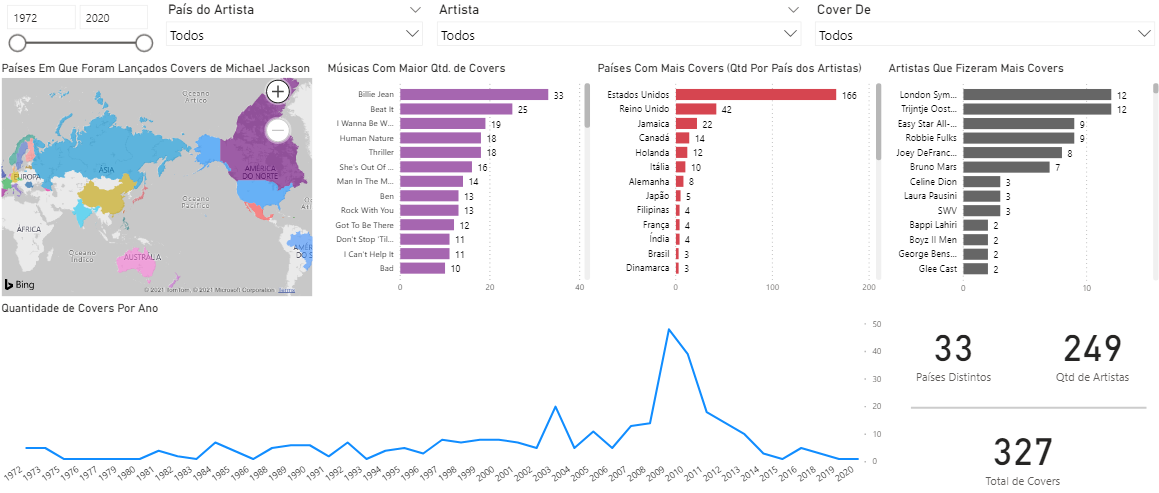

The page's visual inventory and layout, read from the dashboard file:
{"tool":"powerbi","page":{"name":"Covers de Michael Jackson","canvas":[1680,720],"ordinal":2},"visuals":[{"type":"filledMap","title":"Países Em Que Foram Lançados Covers de Michael Jackson","fields":{"Category":["fCovers.País do Artista"],"Series":["fCovers.País do Artista"]},"box":[0,90.9,459,344.9],"z":0},{"type":"lineChart","title":"Quantidade de Covers Por Ano","fields":{"Category":["fCovers.Ano"],"Y2":["fCovers.Cover De"]},"box":[0,437.2,1280,283.5],"z":1000},{"type":"barChart","title":"Músicas Com Maior Qtd. de Covers","fields":{"Category":["fCovers.Cover De"],"Y":["fCovers.Cover De"]},"box":[470.4,91.4,389.3,345.1],"z":2000},{"type":"barChart","title":"Países Com Mais Covers (Qtd Por País dos Artistas)","fields":{"Category":["fCovers.País do Artista"],"Y":["fCovers.Cover De"]},"box":[859.7,91.4,420.3,345.1],"z":3000},{"type":"slicer","fields":{"Values":["fCovers.Cover De"]},"box":[1169.1,0,510.9,90.9],"z":4000},{"type":"slicer","fields":{"Values":["fCovers.País do Artista"]},"box":[232.4,0,391.1,90.9],"z":5000},{"type":"slicer","fields":{"Values":["fCovers.Artista"]},"box":[623.5,0,545.6,90.9],"z":6000},{"type":"barChart","title":"Artistas Que Fizeram Mais Covers","fields":{"Category":["fCovers.Artista"],"Y":["fCovers.Cover De"]},"box":[1279.8,90.9,400.1,345.6],"z":7000},{"type":"card","fields":{"Values":["fCovers.País do Artista"]},"box":[1279.3,437.4,201.3,141.3],"z":8000},{"type":"card","fields":{"Values":["fCovers.Cover De"]},"box":[1278.8,596.1,401.2,124.1],"z":9000},{"type":"card","fields":{"Values":["fCovers.Artista"]},"box":[1478.7,437.4,201.3,141.3],"z":10000},{"type":"basicShape","box":[1308,463,360.5,256.3],"z":11000},{"type":"slicer","fields":{"Values":["dCalendário.Ano"]},"box":[0,0,232.4,90.9],"z":11002}]}

Visuals, with their boxes in screenshot pixels (x1, y1, x2, y2), scaled from the page's 1680x720 canvas onto the 1159x493 screenshot:
"Países Em Que Foram Lançados Covers de Michael Jackson" filledMap: bbox(0, 62, 317, 298)
"Quantidade de Covers Por Ano" lineChart: bbox(0, 299, 883, 492)
"Músicas Com Maior Qtd. de Covers" barChart: bbox(325, 63, 593, 299)
"Países Com Mais Covers (Qtd Por País dos Artistas)" barChart: bbox(593, 63, 883, 299)
slicer - fCovers.Cover De: bbox(807, 0, 1158, 62)
slicer - fCovers.País do Artista: bbox(160, 0, 430, 62)
slicer - fCovers.Artista: bbox(430, 0, 807, 62)
"Artistas Que Fizeram Mais Covers" barChart: bbox(883, 62, 1158, 299)
card - fCovers.País do Artista: bbox(883, 299, 1021, 396)
card - fCovers.Cover De: bbox(882, 408, 1158, 492)
card - fCovers.Artista: bbox(1020, 299, 1158, 396)
basicShape: bbox(902, 317, 1151, 492)
slicer - dCalendário.Ano: bbox(0, 0, 160, 62)
